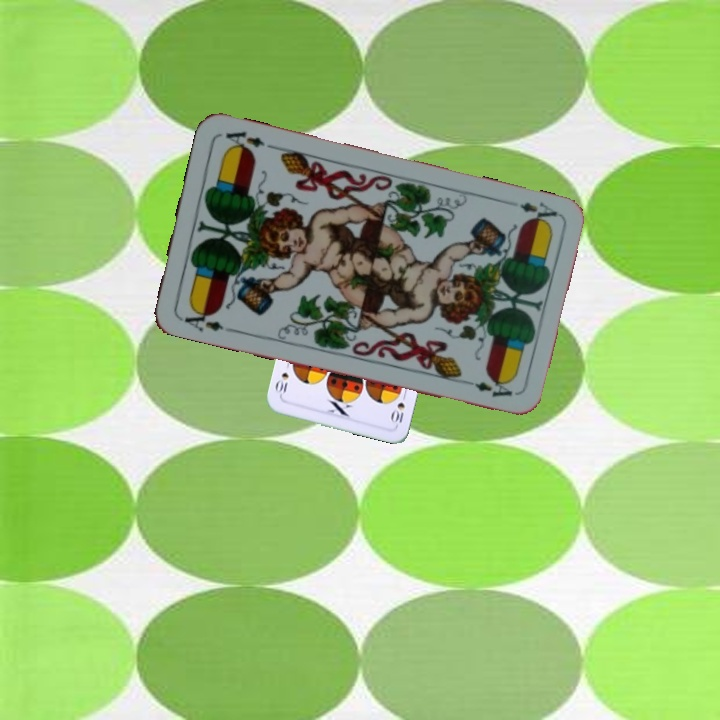EA: (175, 303, 234, 335), (516, 197, 560, 228)
S10: (387, 388, 409, 428)
